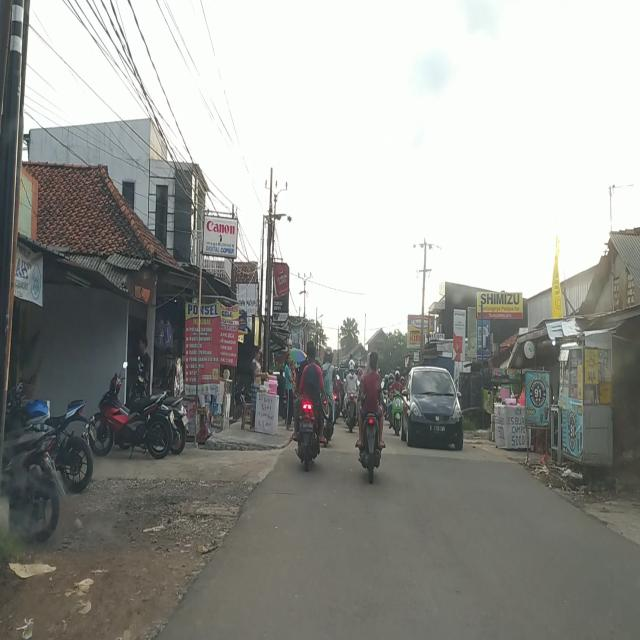Sewer Cover: (256, 484, 301, 496)
